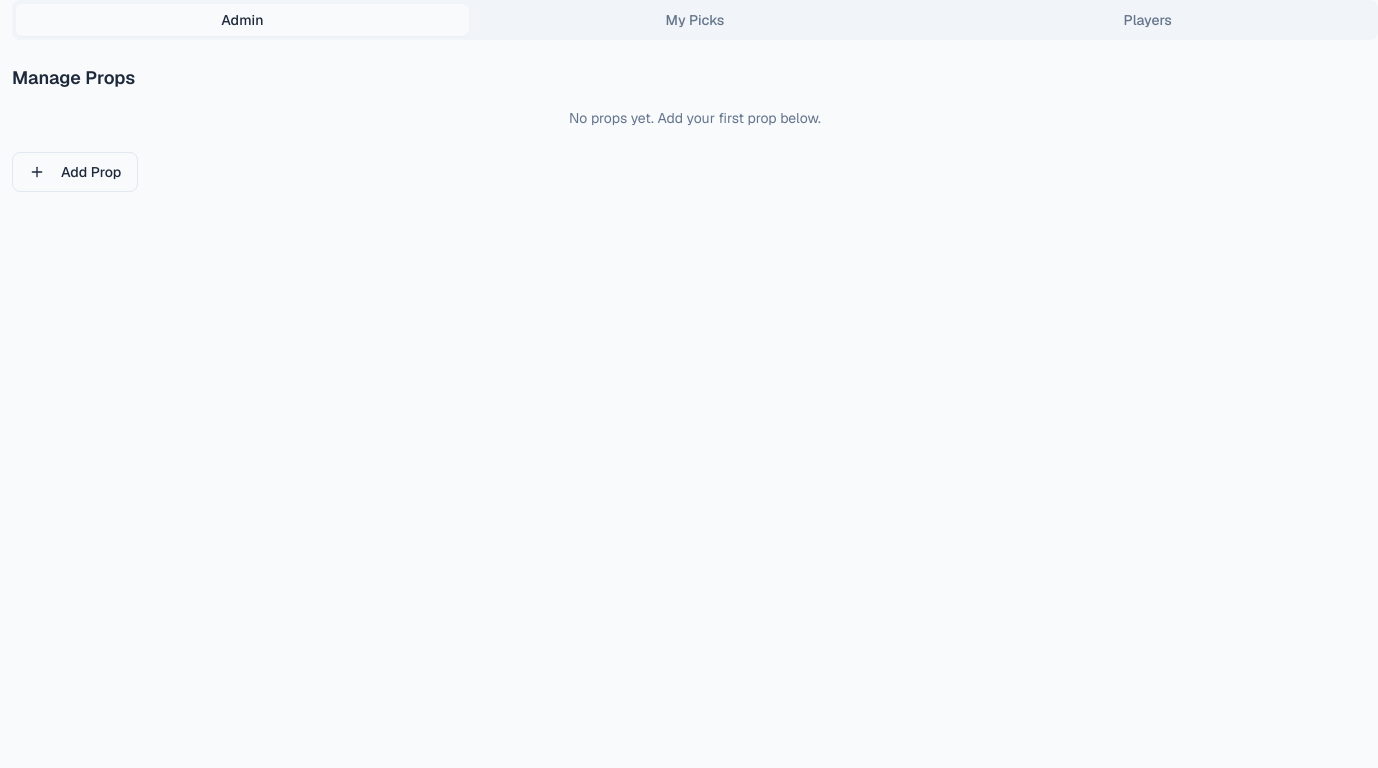
Test case: CaptainTabsClient › Admin Tab › add prop form › collapsible behavior › expands form when "Add Prop" button is clicked
Click the button "Add Prop" at (75, 172), box [12,152,138,192]
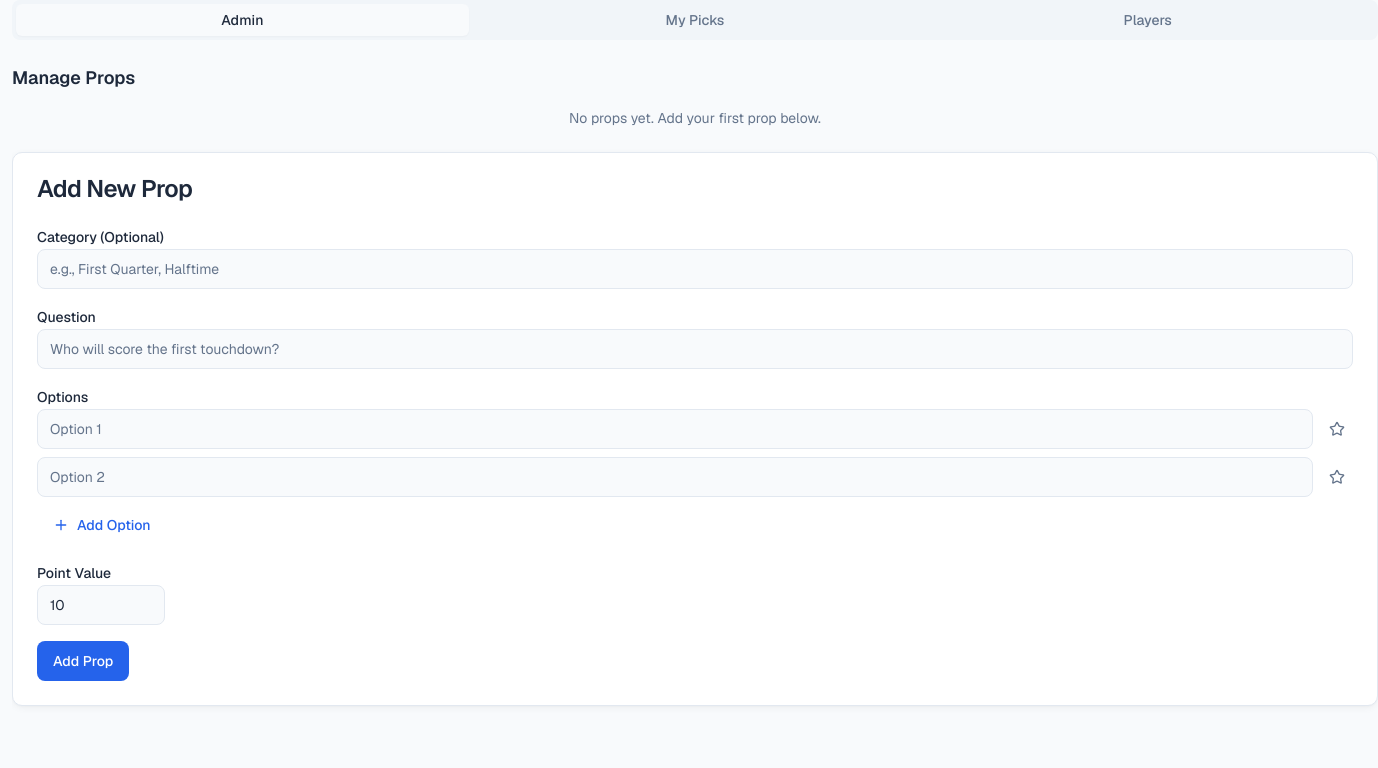
expect the text "Add New Prop" is shown: met, box [37,173,192,204]
expect the field with placeholder "Who will score the first touchdown?" is shown: met, box [37,329,1353,369]
